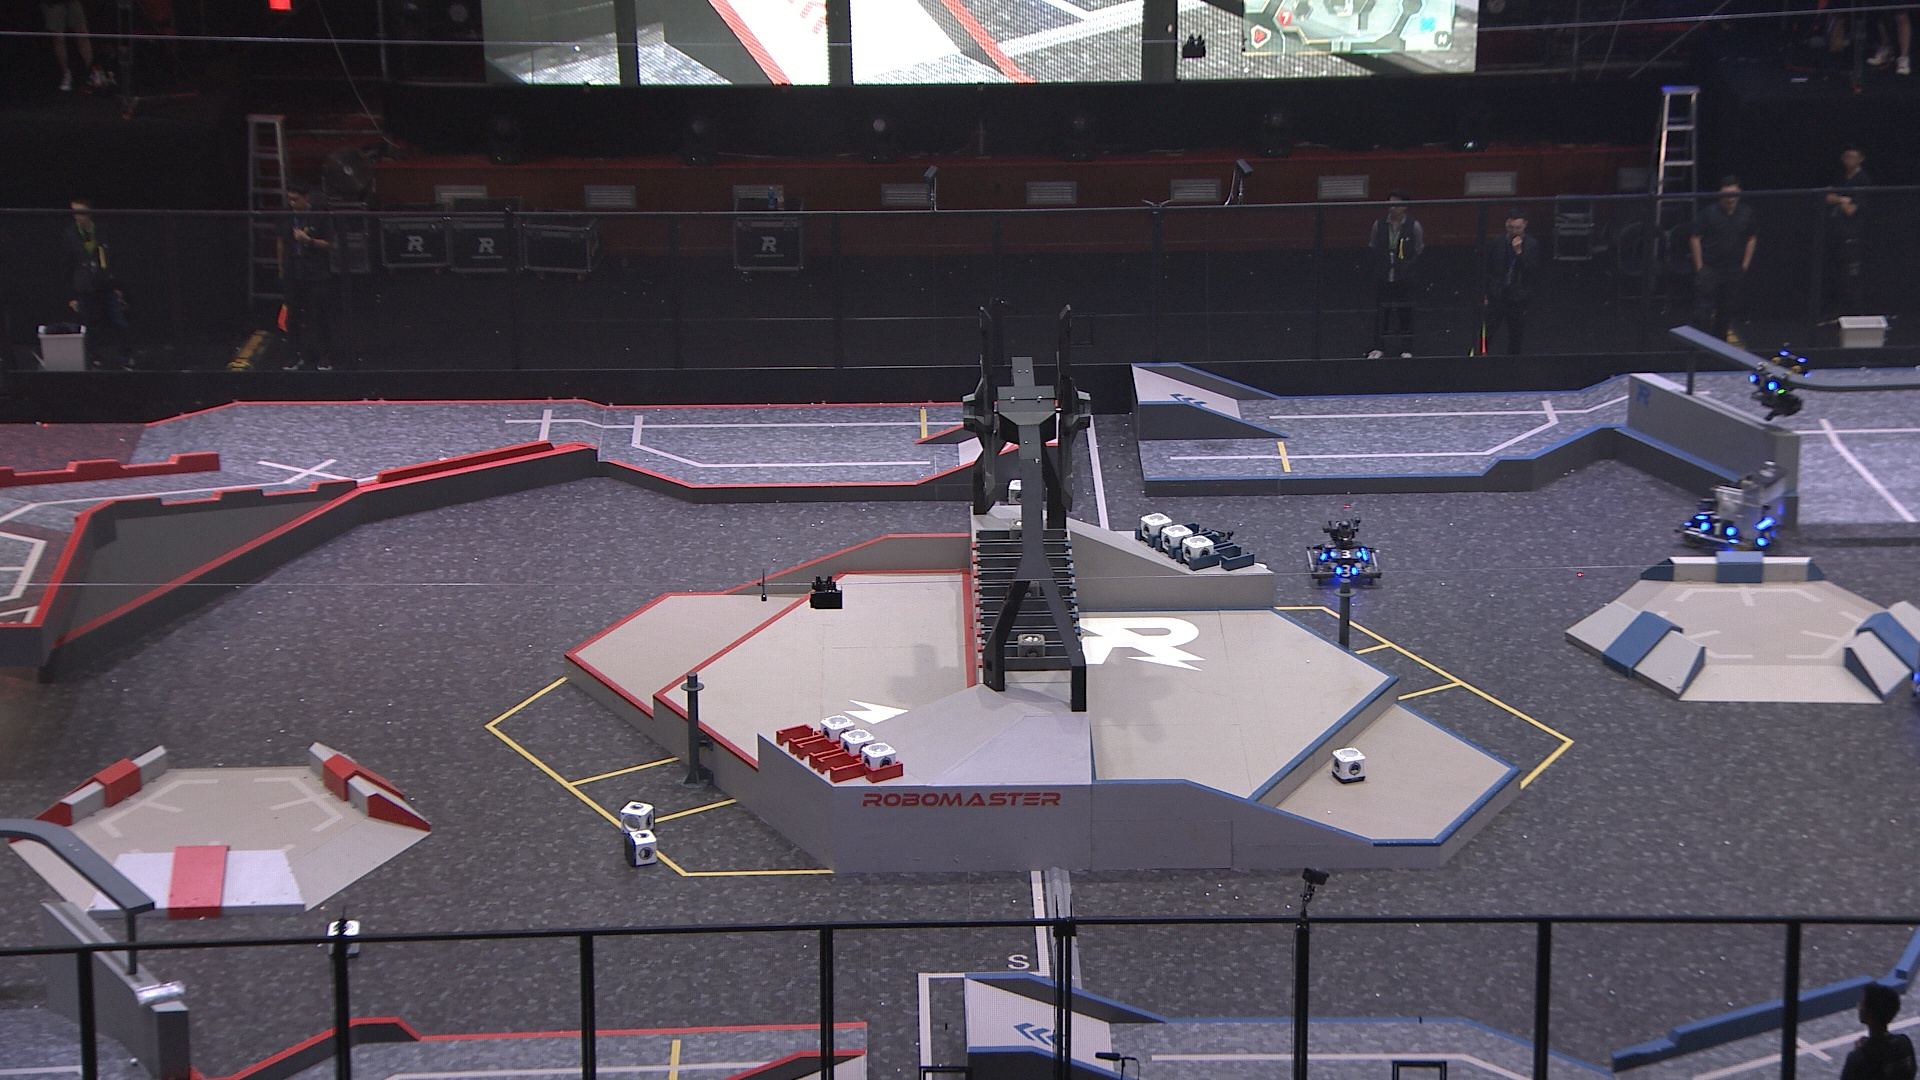armor: (1747, 368, 1782, 396), (1700, 520, 1738, 541), (1328, 545, 1364, 560), (1692, 502, 1717, 524), (1756, 524, 1776, 547), (1332, 562, 1360, 578), (1315, 541, 1329, 562)
car: (1675, 462, 1789, 553), (1304, 514, 1379, 588)
watcher: (1745, 338, 1809, 423)
